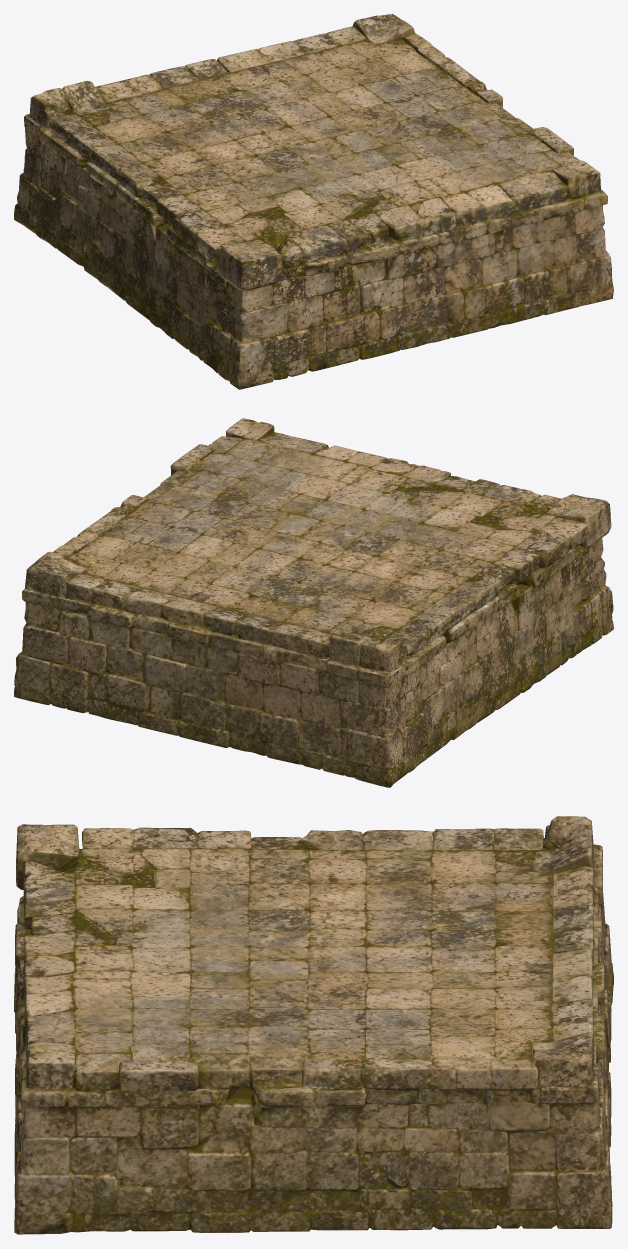
Rendered from ARQ_PlataformaElevada_01_LOD0.fbx.
The picture shows the model from 3 angles, top to bottom: view 1: azimuth 30°, elevation 25°; view 2: azimuth 150°, elevation 25°; view 3: azimuth 270°, elevation 25°; orthographic projection. The views are drawn at different scales.
Visible parts, largest first — view 1: ARQ_PlataformaElevada_01_Mesh000; view 2: ARQ_PlataformaElevada_01_Mesh000; view 3: ARQ_PlataformaElevada_01_Mesh000.
Boxes of the visible parts, x1,y1,x2,y2 form: ARQ_PlataformaElevada_01_Mesh000: (14,14,613,389); ARQ_PlataformaElevada_01_Mesh000: (14,418,613,787); ARQ_PlataformaElevada_01_Mesh000: (14,816,613,1234).
Size of the model in its own units: 8 by 2.77 by 8.27.
